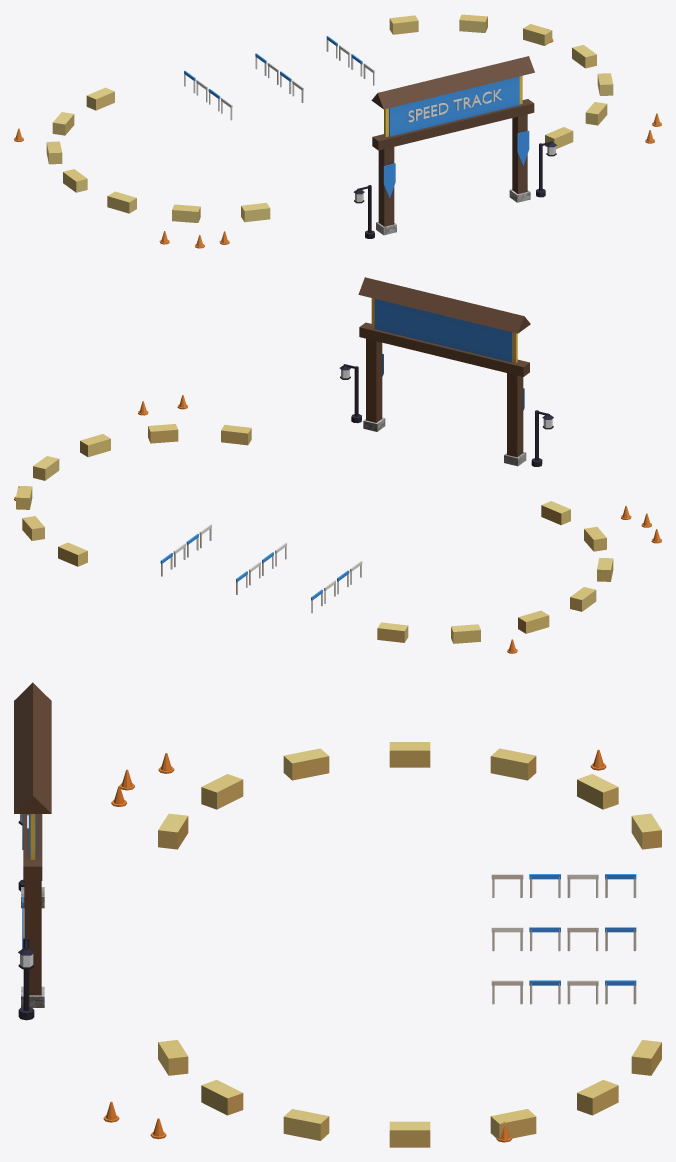
Rendered from area_track_2_5.fbx.
3 renders of one model, top to bottom at view 1: azimuth 30°, elevation 25°; view 2: azimuth 150°, elevation 25°; view 3: azimuth 270°, elevation 25°, orthographic. The views are drawn at different scales.
Visible parts, largest first — view 1: area_track_2_5_body; view 2: area_track_2_5_body; view 3: area_track_2_5_body.
Boxes of the visible parts, x1,y1,x2,y2 form: area_track_2_5_body: [14, 14, 661, 248]; area_track_2_5_body: [14, 277, 661, 653]; area_track_2_5_body: [14, 682, 661, 1147].
Bounding box in the file's own units: 14625 × 3763 × 10308.
2 materials, 1 textured.
